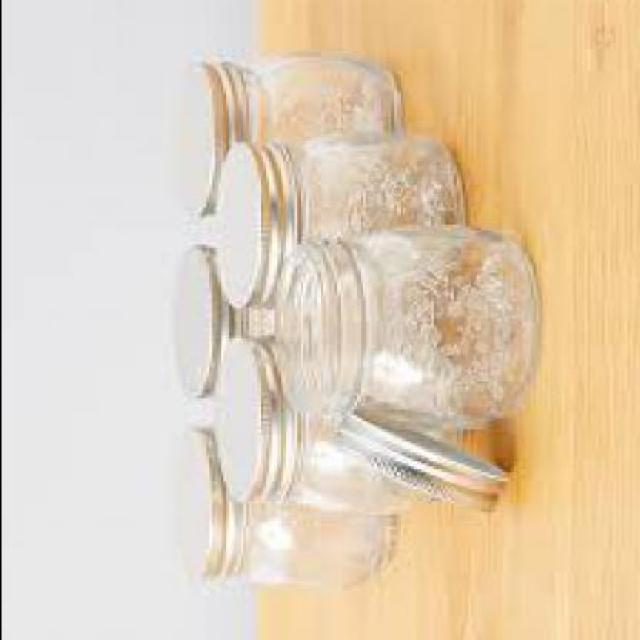GLASS: (273, 227, 535, 424), (274, 342, 449, 516), (296, 137, 461, 241), (230, 487, 393, 588), (242, 57, 398, 151)
METAL: (328, 420, 506, 518), (207, 339, 293, 506), (207, 148, 293, 315), (170, 250, 242, 401), (182, 62, 244, 222), (174, 432, 238, 586)
